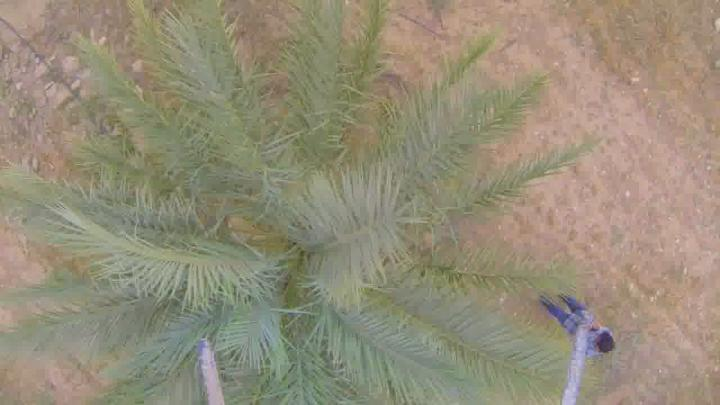Date-Palm-Crown: (130, 82, 466, 404)
